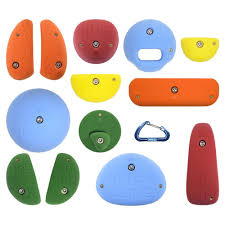hold: (6, 89, 69, 152), (96, 153, 165, 205), (124, 19, 175, 71), (186, 123, 218, 204), (129, 78, 218, 105), (73, 19, 118, 63), (6, 153, 40, 204), (46, 153, 79, 204), (79, 111, 120, 151), (6, 20, 33, 79), (40, 20, 66, 79), (71, 74, 120, 102), (181, 37, 218, 61)
